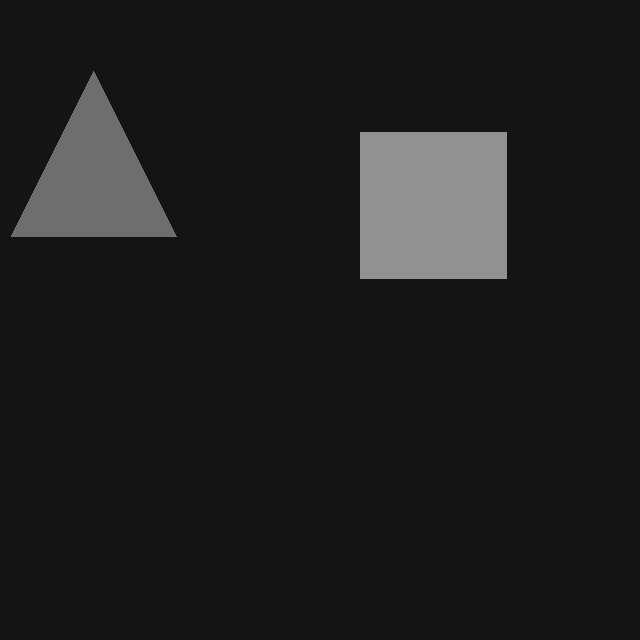square: (360, 132, 506, 278)
triangle: (11, 71, 176, 236)
